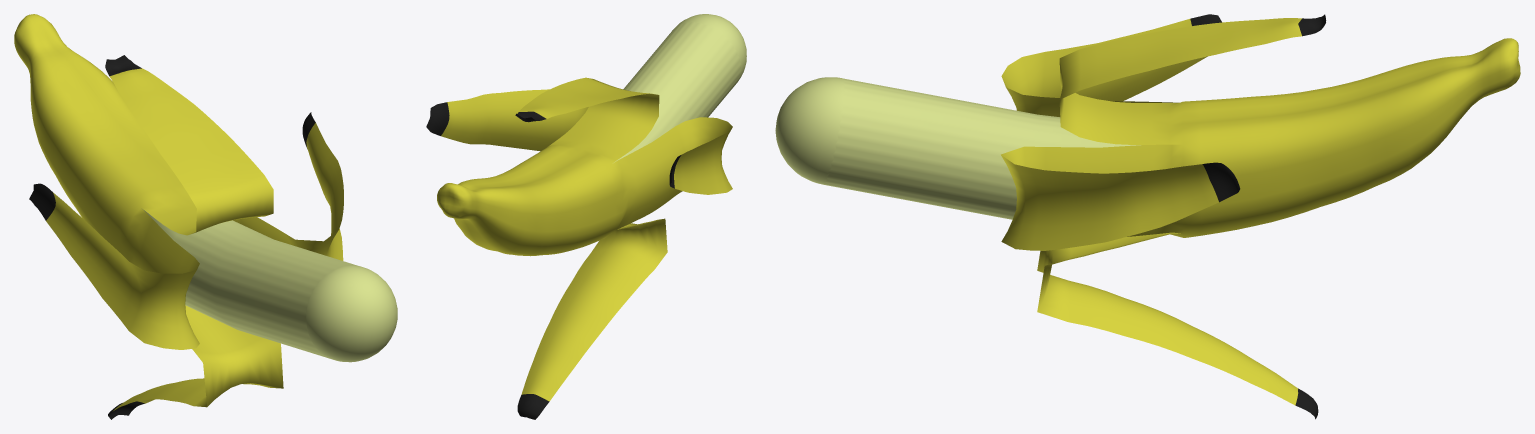
The model's file is banan1.fbx.
The picture shows the model from 3 angles, left to right: view 1: azimuth 30°, elevation 25°; view 2: azimuth 150°, elevation 25°; view 3: azimuth 270°, elevation 25°; orthographic projection. The views are drawn at different scales.
Parts seen in each view (by area): view 1: Cube.004, Cylinder; view 2: Cube.004, Cylinder; view 3: Cube.004, Cylinder.
Boxes of the visible parts, bbox=[...] form: Cube.004: bbox=[14, 14, 343, 419]; Cylinder: bbox=[143, 209, 397, 362]; Cube.004: bbox=[426, 77, 732, 419]; Cylinder: bbox=[614, 14, 746, 162]; Cube.004: bbox=[1001, 14, 1520, 419]; Cylinder: bbox=[775, 77, 1140, 219].
Size of the model in its own units: 539 by 651 by 1109.
